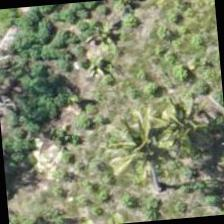Kelapa_Sawit: (74, 92, 172, 190)
